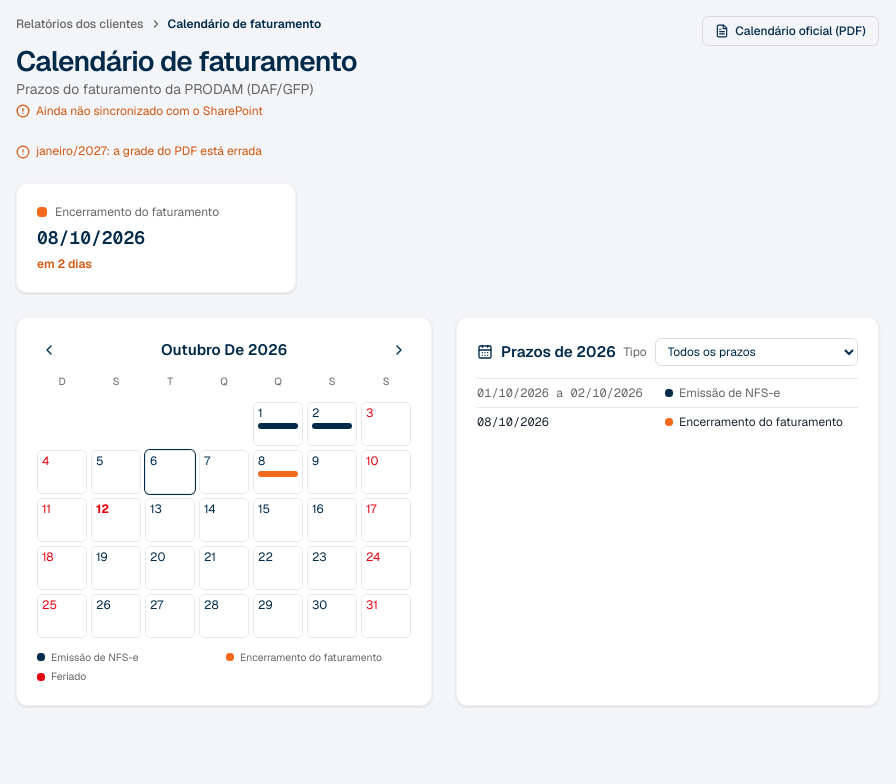
it: próximos prazos, mês com marcadores e feriado, lista do ano, aviso e PDF
The width and height of the screenshot is (896, 784).
Expected: the text "Encerramento do faturamento" is shown, [37,204,219,220]
Expected: the button named "12 de outubro: Nossa Senhora Aparecida" is shown, [91,498,141,542]
Step 1. Click the button named "8 de outubro: Encerramento do faturamento" → click(278, 472), box [253,450,303,494]
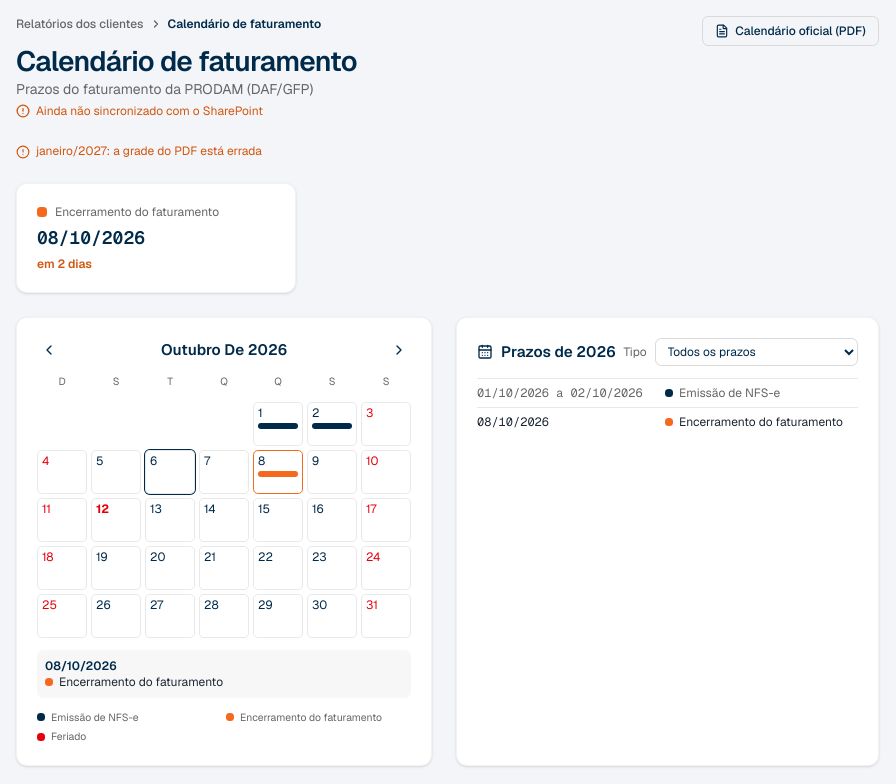
Expected: the list item "janeiro/2027: a grade do PDF está errada" is shown, [16,143,262,159]
Now the text "Encerramento do faturamento" is shown, box [45,674,223,690]
